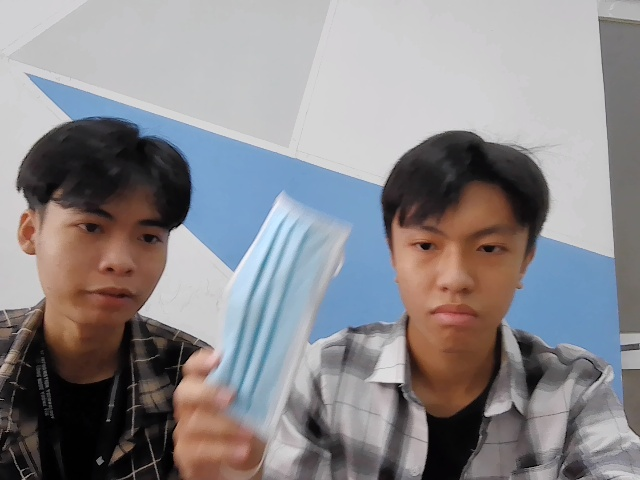human: (17, 116, 195, 345), (377, 125, 541, 359)
mask: (197, 195, 359, 443)
